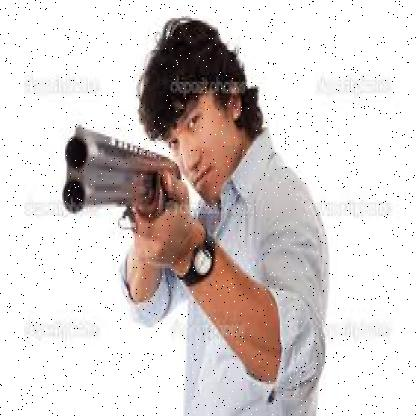pistol: (62, 120, 178, 300)
